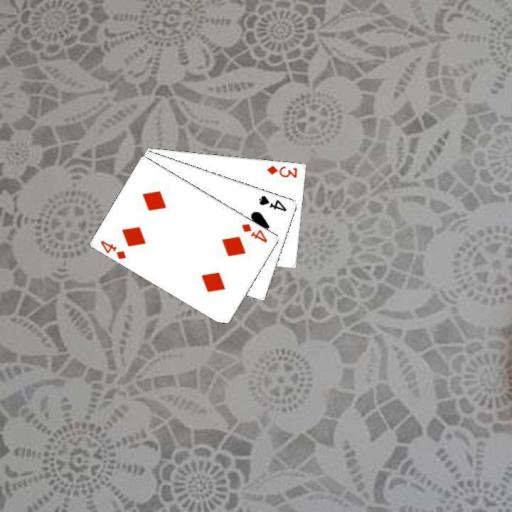card-corner: (97, 237, 128, 261), (239, 220, 269, 244), (256, 192, 288, 213), (264, 162, 298, 179)
